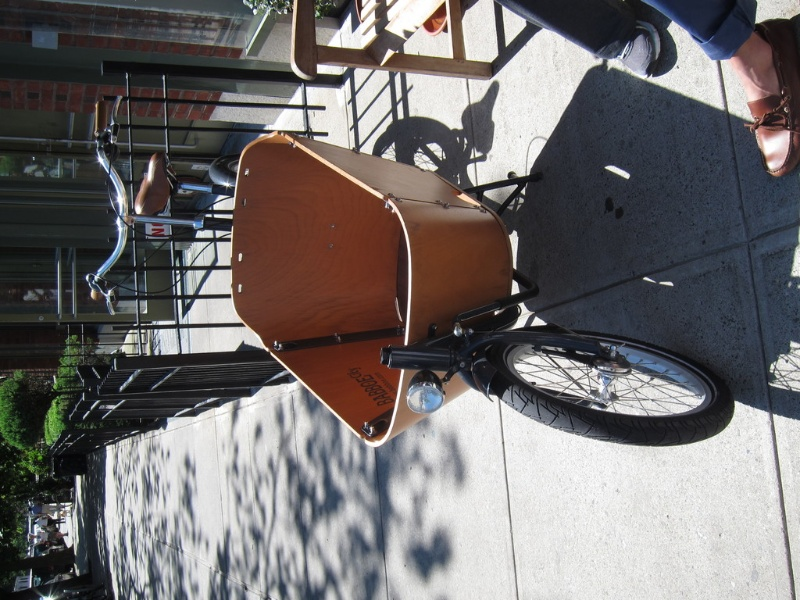bicycle: (63, 98, 739, 494)
